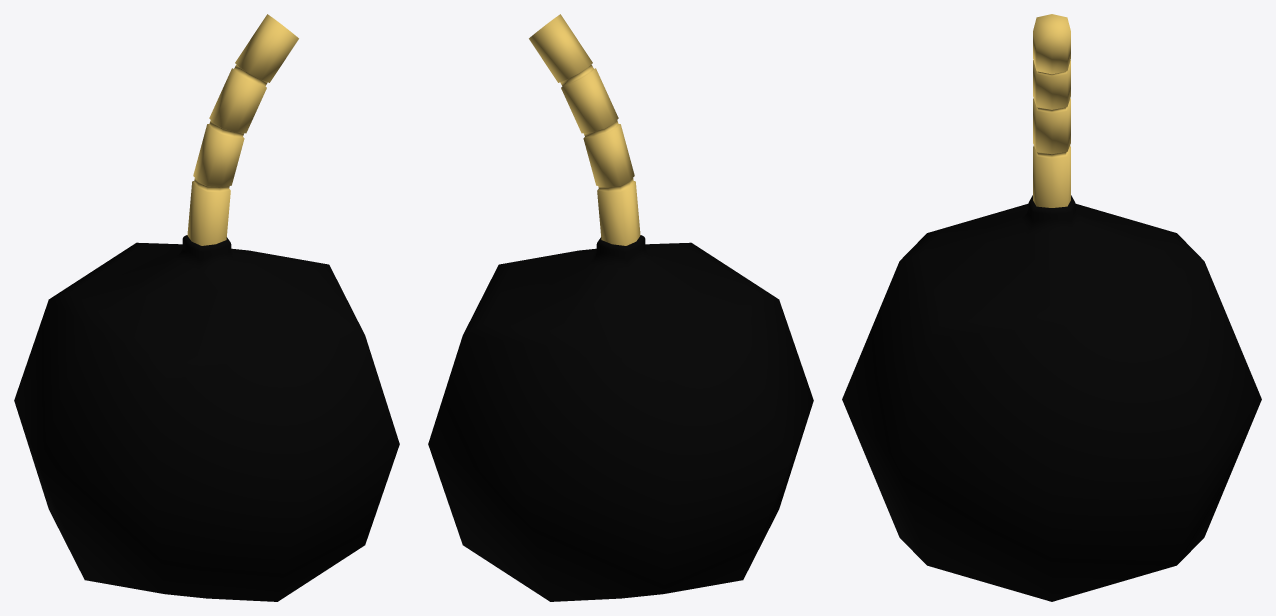
The model's file is LittleBom.fbx.
The picture shows the model from 3 angles, left to right: view 1: azimuth 30°, elevation 25°; view 2: azimuth 150°, elevation 25°; view 3: azimuth 270°, elevation 25°; orthographic projection. The views are drawn at different scales.
Visible parts, largest first — view 1: Bomb, Cube.001; view 2: Bomb, Cube.001; view 3: Bomb, Cube.001.
Boxes of the visible parts, left/top/right/bottom form: Bomb: left=14, top=235, right=399, bottom=601; Cube.001: left=187, top=14, right=298, bottom=245; Bomb: left=428, top=235, right=813, bottom=601; Cube.001: left=529, top=14, right=640, bottom=245; Bomb: left=842, top=195, right=1261, bottom=601; Cube.001: left=1033, top=14, right=1070, bottom=207.
Size of the model in its own units: 168 by 269 by 168.
